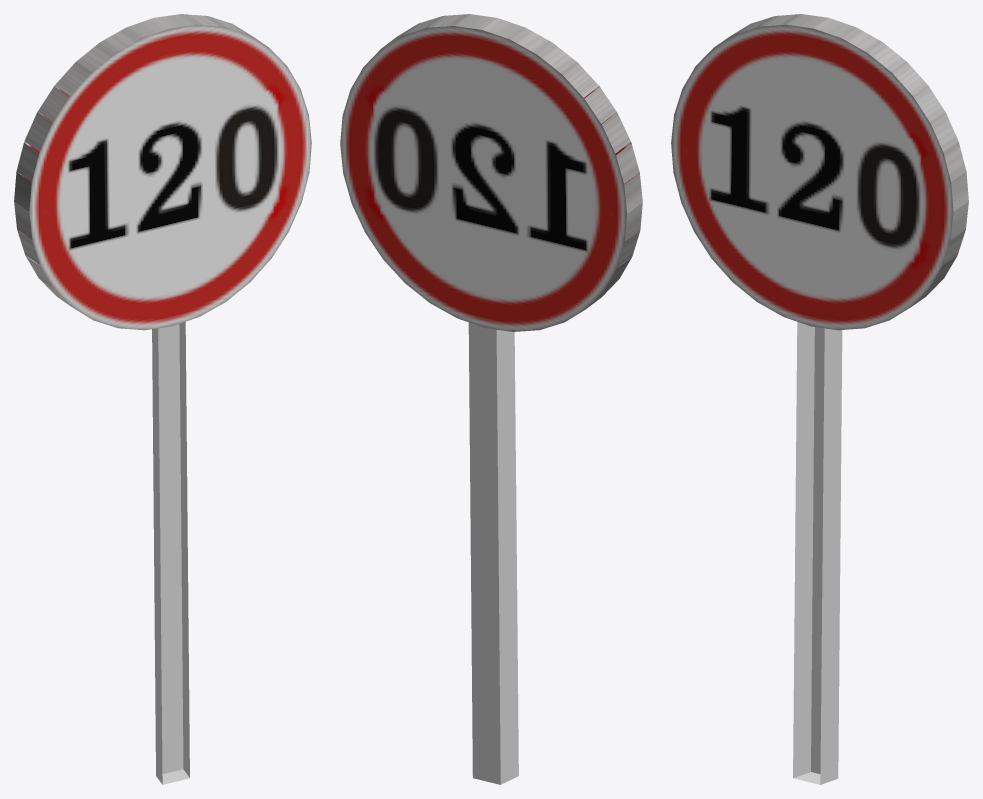
The picture shows the model from 3 angles, left to right: view 1: azimuth 30°, elevation 25°; view 2: azimuth 150°, elevation 25°; view 3: azimuth 330°, elevation 25°; orthographic projection.
Parts seen in each view (by area): view 1: Cycle, Xui; view 2: Cycle, Xui; view 3: Cycle, Xui.
Boxes of the visible parts, x1,y1,x2,y2 form: Cycle: (14,14,311,330); Xui: (152,322,189,784); Cycle: (340,14,642,331); Xui: (468,322,518,784); Cycle: (671,14,968,330); Xui: (793,322,842,784).
Size of the model in its own units: 0.2554 by 0.0352 by 0.6471.
1 material, 1 textured.
